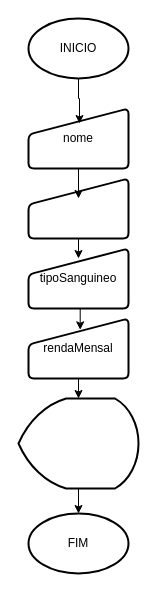
Image size: 156x591. Some labels were removed from this diagram. The shapes that lost their labels are listed below. From the top down, each one's centre as x and y in pixels, then its label:
At (78,208): "anoNascimento".
At (78,443): "nome anoNascimento tipoSanguineo rendaMensal".
